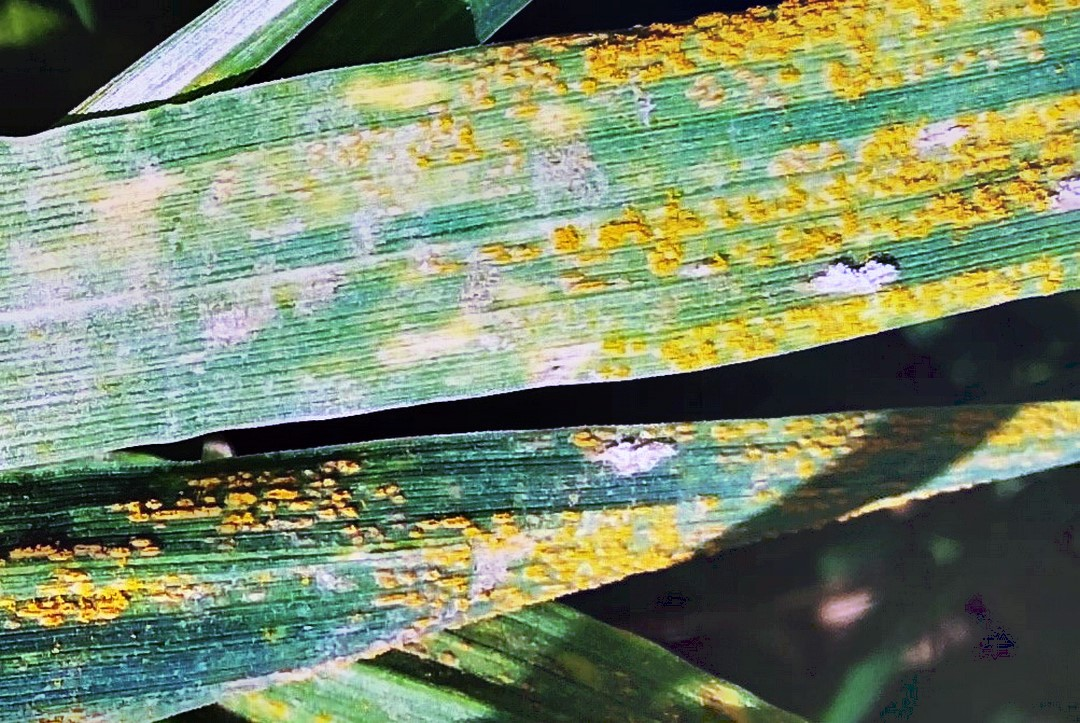Leaf Rust: (413, 1, 1065, 406), (25, 419, 749, 686)
